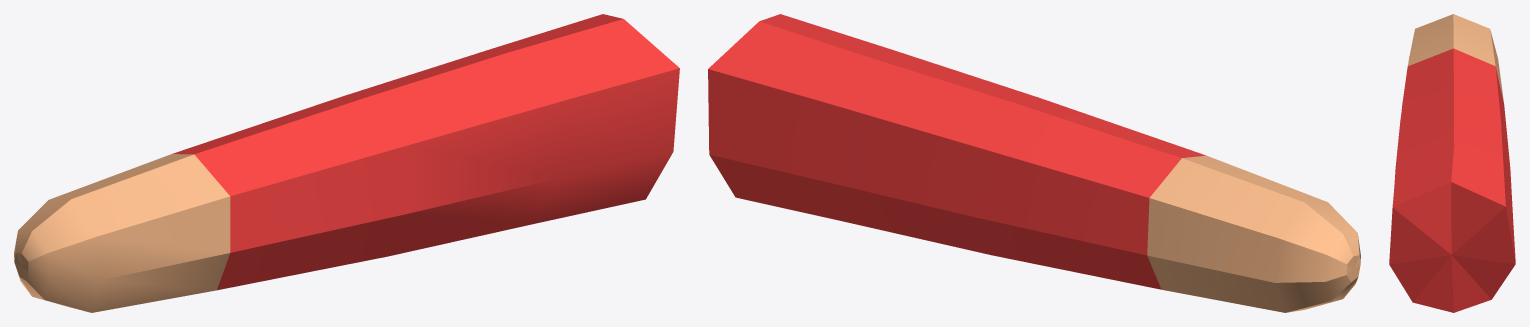
The model's file is AXO_ANGRY_HAND_R.fbx.
3 renders of one model, left to right at view 1: azimuth 30°, elevation 25°; view 2: azimuth 150°, elevation 25°; view 3: azimuth 270°, elevation 25°, orthographic. The views are drawn at different scales.
Parts seen in each view (by area): view 1: AXO_ANGRY_HAND_R; view 2: AXO_ANGRY_HAND_R; view 3: AXO_ANGRY_HAND_R.
Part boxes in pixels (x1,y1,x2,y2): AXO_ANGRY_HAND_R: (14,14,679,312); AXO_ANGRY_HAND_R: (708,14,1360,312); AXO_ANGRY_HAND_R: (1389,14,1515,312).
Size of the model in its own units: 4.22 by 1.13 by 0.9907.
